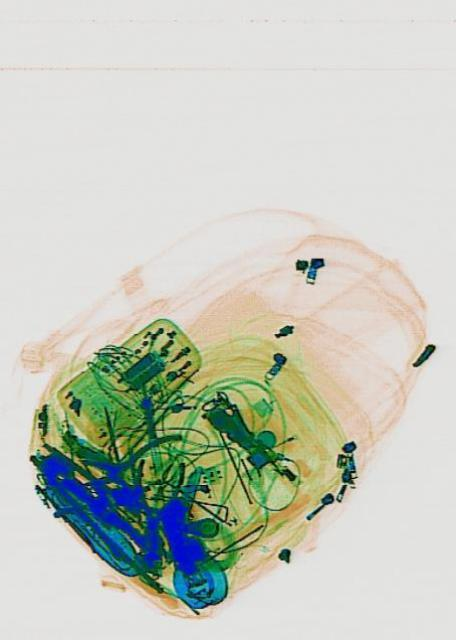Pliers: (76, 432, 181, 516)
